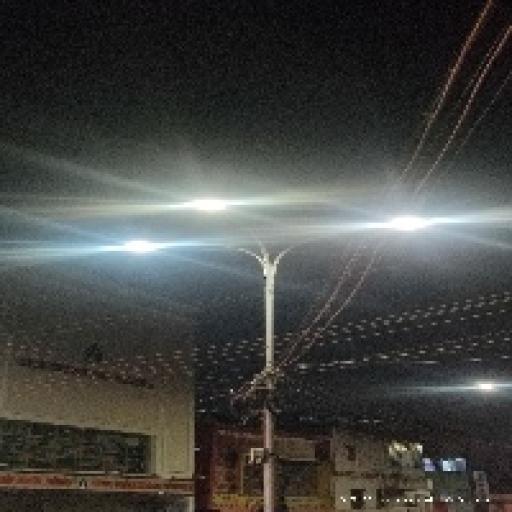Working: (378, 210, 438, 237), (173, 192, 231, 219), (108, 231, 158, 259)
